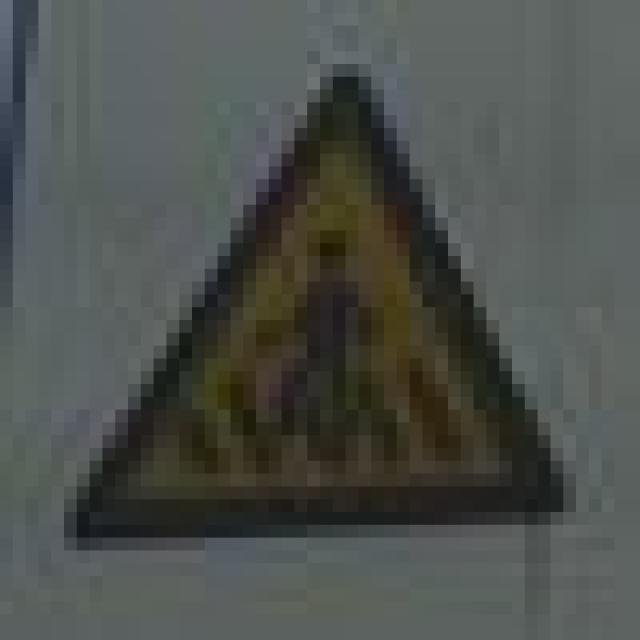pass_either_side: (51, 51, 563, 512)
